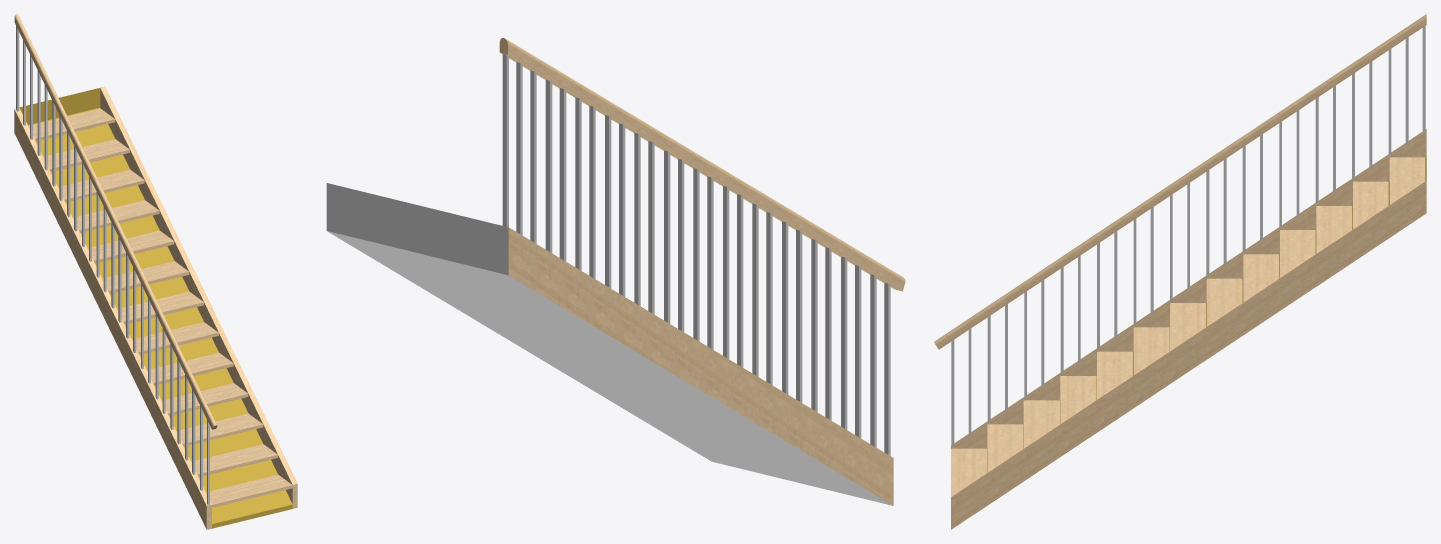
Rendered from sweethome3d-contributions-straight-staircase.glb.
3 renders of one model, left to right at view 1: azimuth 30°, elevation 25°; view 2: azimuth 150°, elevation 25°; view 3: azimuth 270°, elevation 25°, orthographic. The views are drawn at different scales.
Parts seen in each view (by area): view 1: 9_9, 1_1, 10_10, 27_27, 2_2, 6_6; view 2: 27_27, 1_1, 10_10, 5_5, 2_2; view 3: 10_10, 9_9, 27_27, 2_2.
Part boxes in pixels (bbox=[...]): 9_9: bbox=[28, 108, 292, 507]; 1_1: bbox=[28, 107, 292, 528]; 10_10: bbox=[14, 86, 297, 529]; 27_27: bbox=[16, 26, 209, 505]; 2_2: bbox=[14, 14, 217, 429]; 6_6: bbox=[19, 88, 100, 124]; 27_27: bbox=[502, 54, 890, 455]; 1_1: bbox=[327, 231, 892, 505]; 10_10: bbox=[327, 226, 893, 505]; 5_5: bbox=[326, 183, 508, 274]; 2_2: bbox=[499, 38, 905, 291]; 10_10: bbox=[951, 129, 1426, 529]; 9_9: bbox=[951, 157, 1425, 496]; 27_27: bbox=[951, 26, 1425, 446]; 2_2: bbox=[934, 14, 1426, 349].
Bounding box in the file's own units: 90 × 354 × 342.
6 materials, 3 textured.
